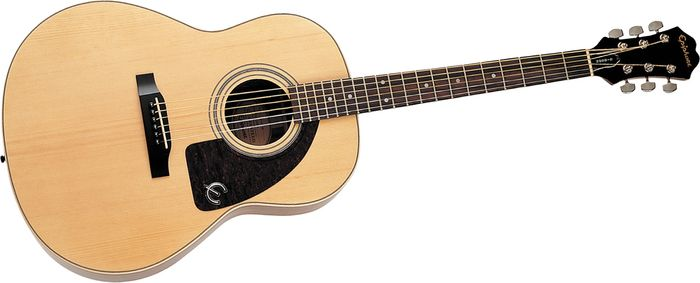guitar: (1, 1, 695, 279)
